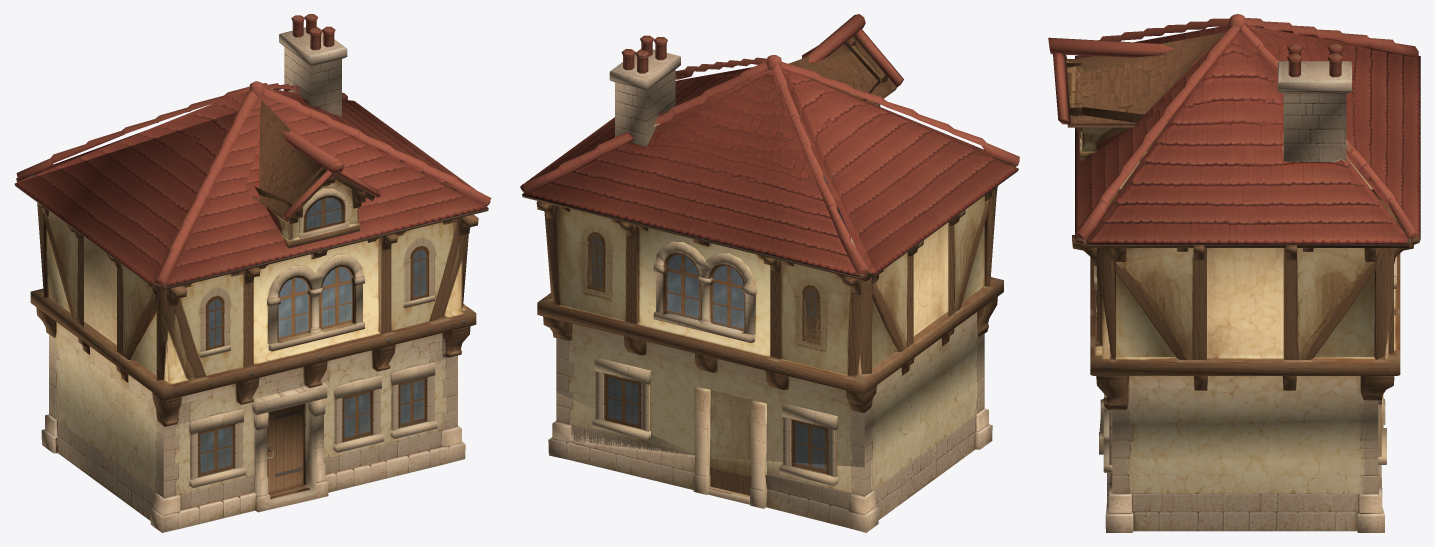
Rendered from Furn_Town2_House_C.fbx.
The picture shows the model from 3 angles, left to right: view 1: azimuth 30°, elevation 25°; view 2: azimuth 150°, elevation 25°; view 3: azimuth 270°, elevation 25°; orthographic projection. The views are drawn at different scales.
Visible parts, largest first — view 1: Furn_Town2_House_C; view 2: Furn_Town2_House_C; view 3: Furn_Town2_House_C.
Boxes of the visible parts, x1,y1,x2,y2 form: Furn_Town2_House_C: [14, 14, 491, 532]; Furn_Town2_House_C: [520, 14, 1019, 532]; Furn_Town2_House_C: [1048, 14, 1420, 532].
Bounding box in the file's own units: 9.2 × 10 × 7.52.
1 material, 1 textured.
